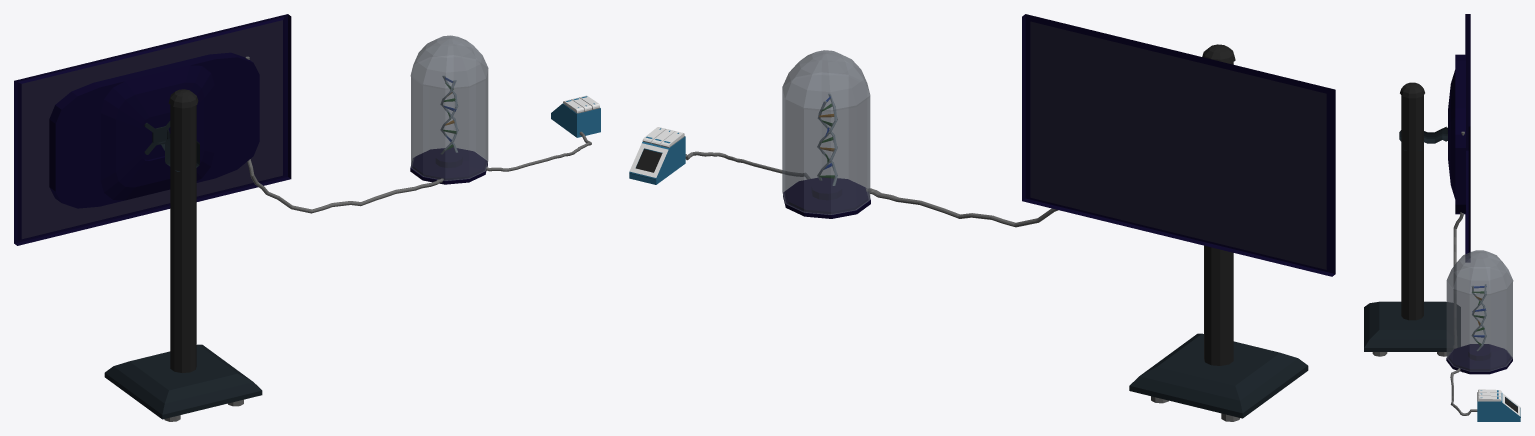
The model's file is ThermalCycler.fbx.
3 views of the same model, side by side, from view 1: azimuth 30°, elevation 25°; view 2: azimuth 150°, elevation 25°; view 3: azimuth 270°, elevation 25° (orthographic). The views are drawn at different scales.
Parts seen in each view (by area): view 1: Cube.005, Cube.004, Cylinder.002, Cylinder.001, Cilindro, Cylinder.004, Cube, Cylinder.003; view 2: Cube.004, Cylinder.001, Cylinder.002, Cilindro, Cube, Cylinder.004, Cylinder.003; view 3: Cylinder.002, Cylinder.001, Cube.005, Cilindro, Cube.004, Cube, Cylinder.004, Cylinder.003.
Part boxes in pixels (x1,y1,x2,y2): Cube.005: (49,52,259,208); Cube.004: (14,14,291,245); Cylinder.002: (104,89,262,421); Cylinder.001: (410,35,488,180); Cilindro: (410,147,487,184); Cylinder.004: (245,56,591,213); Cube: (551,103,600,137); Cylinder.003: (440,75,458,154); Cube.004: (1022,14,1335,276); Cylinder.001: (782,50,870,214); Cylinder.002: (1129,44,1308,421); Cilindro: (783,177,870,218); Cube: (629,136,685,184); Cylinder.004: (685,151,1058,227); Cylinder.003: (817,93,837,185); Cylinder.002: (1364,82,1460,356); Cylinder.001: (1446,250,1513,371); Cube.005: (1448,54,1465,214); Cilindro: (1446,344,1512,374); Cube.004: (1465,14,1470,262); Cube: (1477,393,1520,421); Cylinder.004: (1450,131,1477,415); Cylinder.003: (1471,284,1486,350).
Bounding box in the file's own units: 1715 × 898 × 470.
